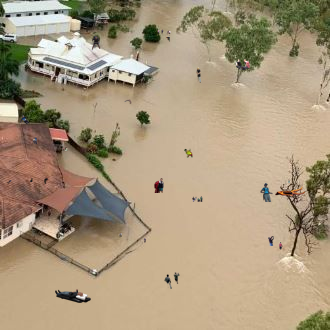Human: (54, 289, 91, 303), (275, 186, 305, 196), (164, 272, 180, 289), (260, 183, 273, 202), (144, 29, 171, 36), (91, 36, 103, 51), (235, 59, 250, 70), (154, 178, 164, 193), (19, 115, 31, 126), (184, 148, 193, 158), (196, 67, 201, 83), (124, 99, 134, 106), (192, 196, 203, 202), (268, 236, 274, 246), (279, 242, 283, 250), (33, 137, 37, 144), (118, 232, 122, 238), (44, 178, 48, 184), (99, 71, 102, 78), (63, 147, 68, 151), (166, 37, 170, 42), (7, 180, 12, 184), (117, 190, 120, 194), (30, 178, 33, 182), (144, 238, 146, 243), (288, 179, 290, 184)
